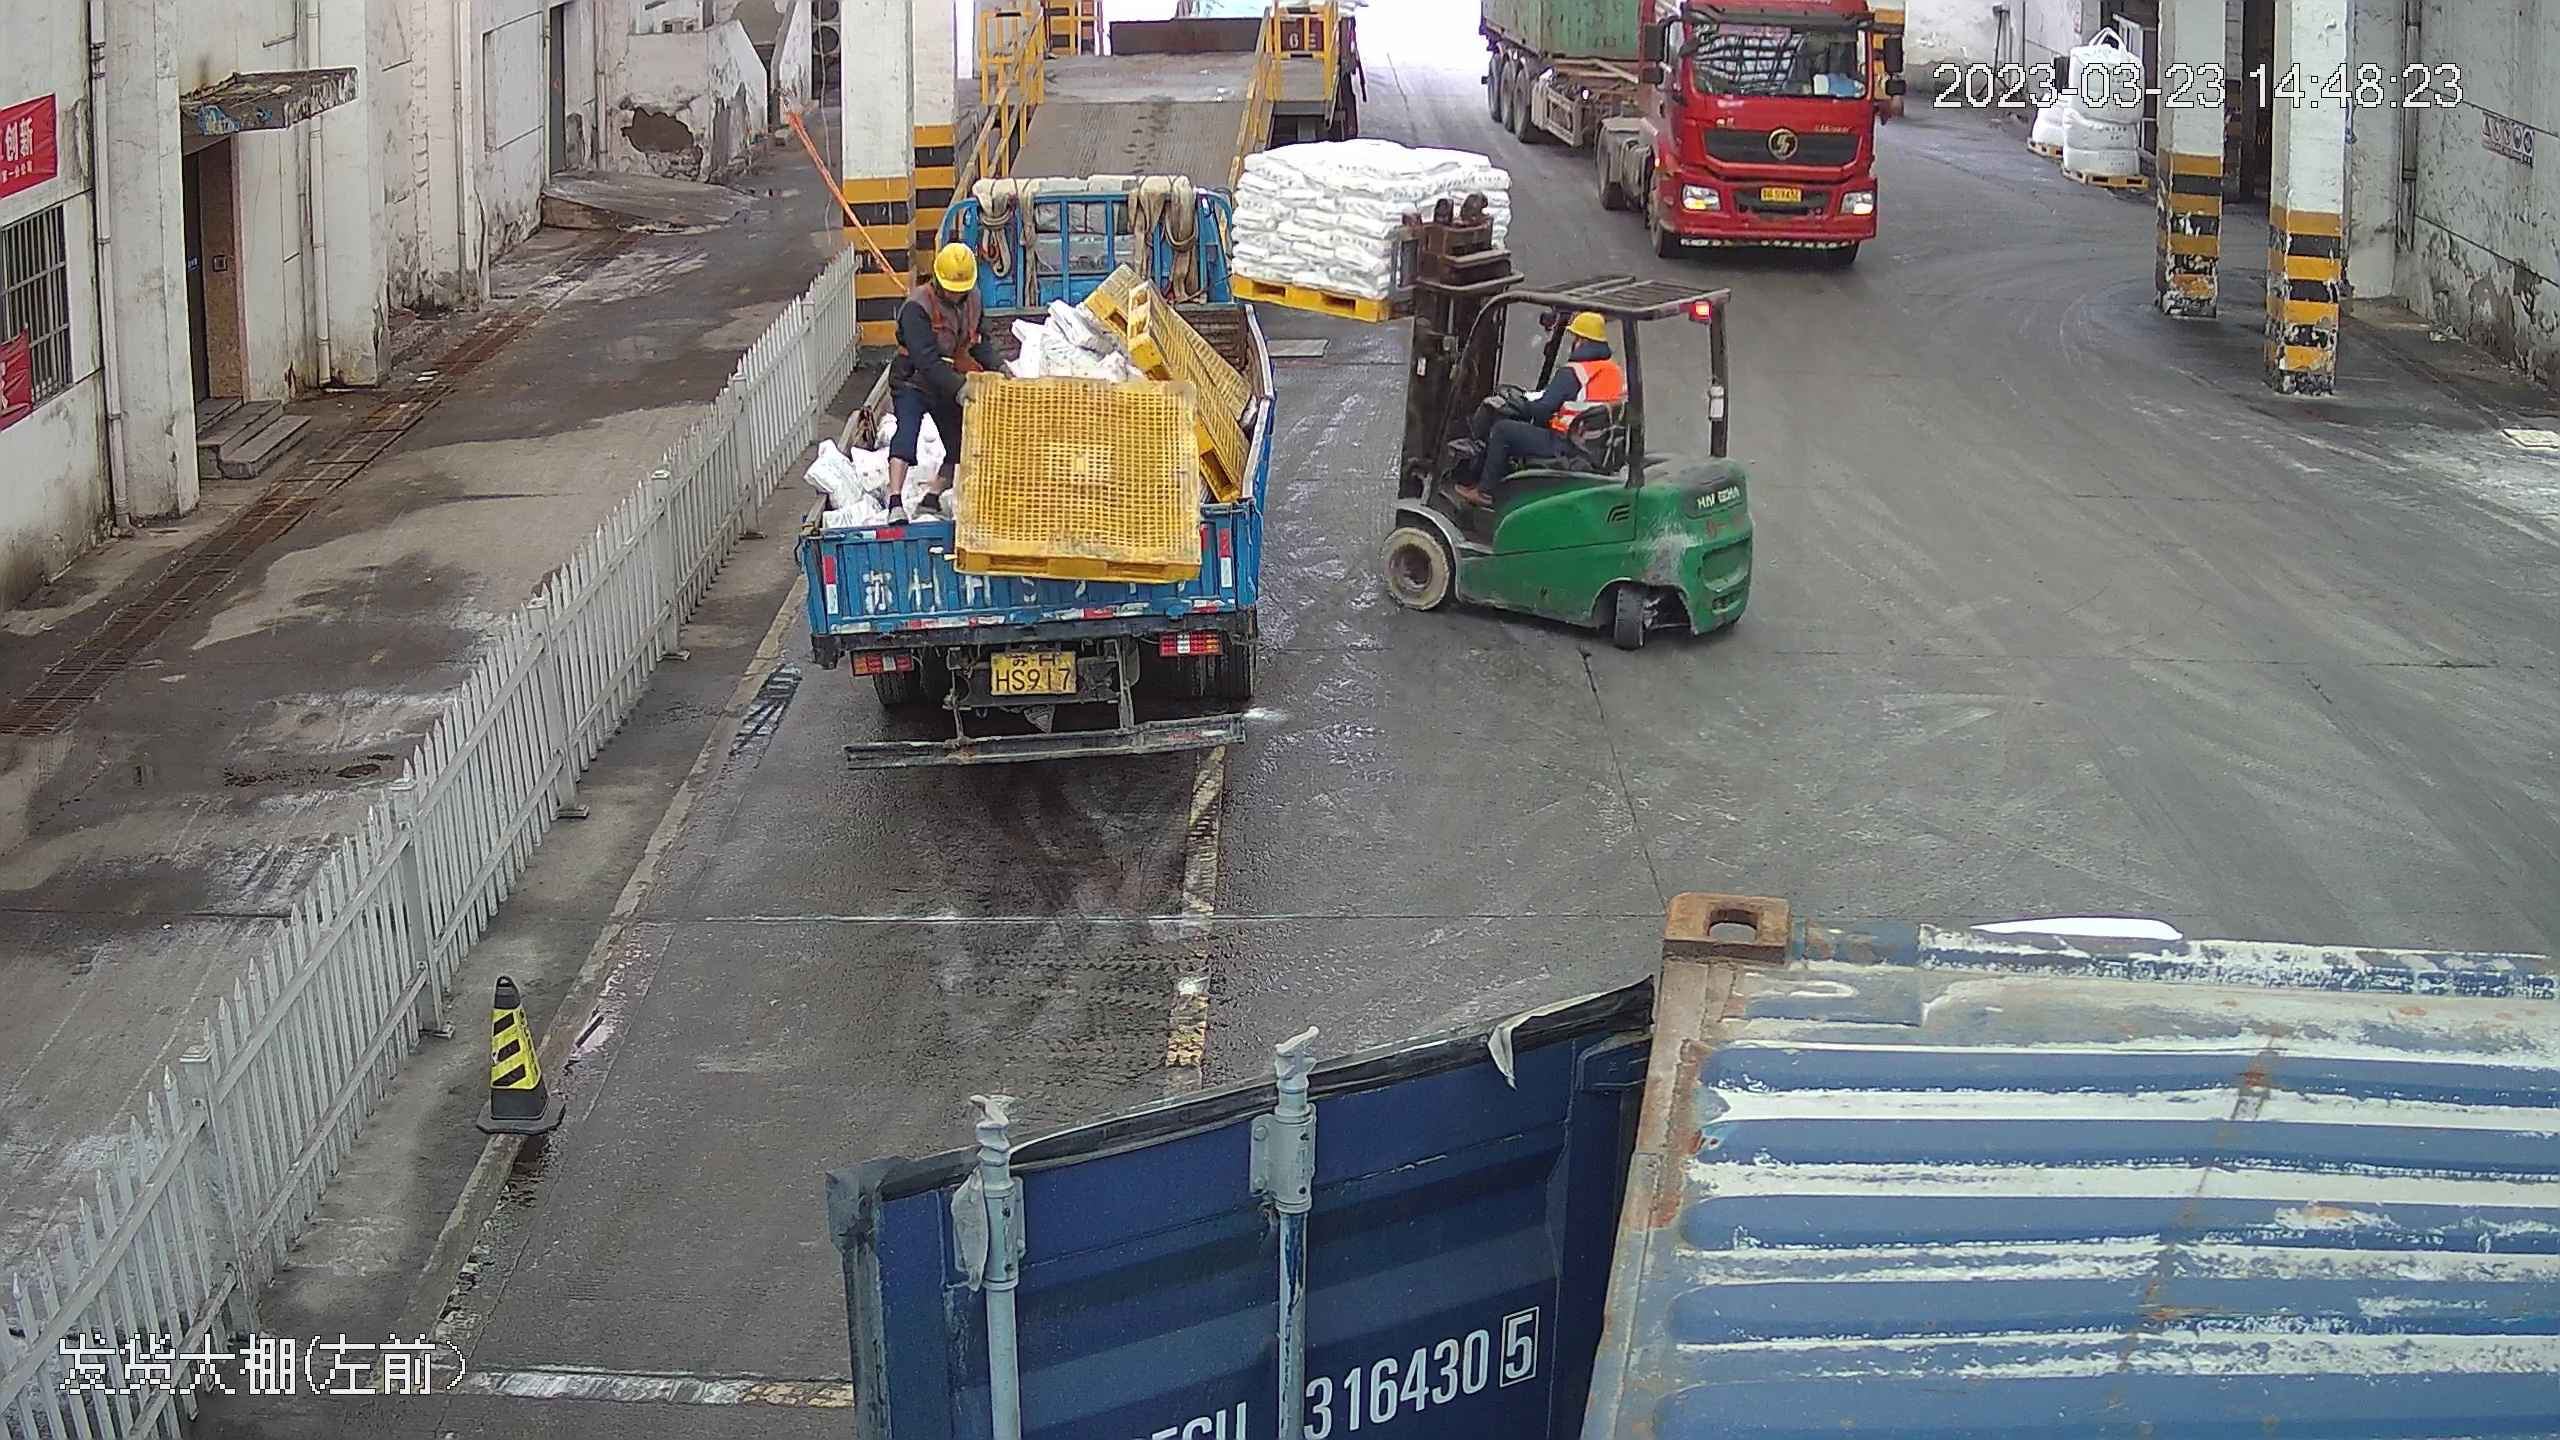belt: (910, 287, 976, 350)
head: (1481, 308, 1619, 499), (895, 243, 989, 326), (1554, 311, 1625, 393)
helmet: (929, 243, 979, 288), (1567, 311, 1609, 342)
people: (875, 241, 995, 519), (1476, 311, 1616, 499)
truck: (776, 58, 1276, 775), (1470, 1, 1910, 262)
